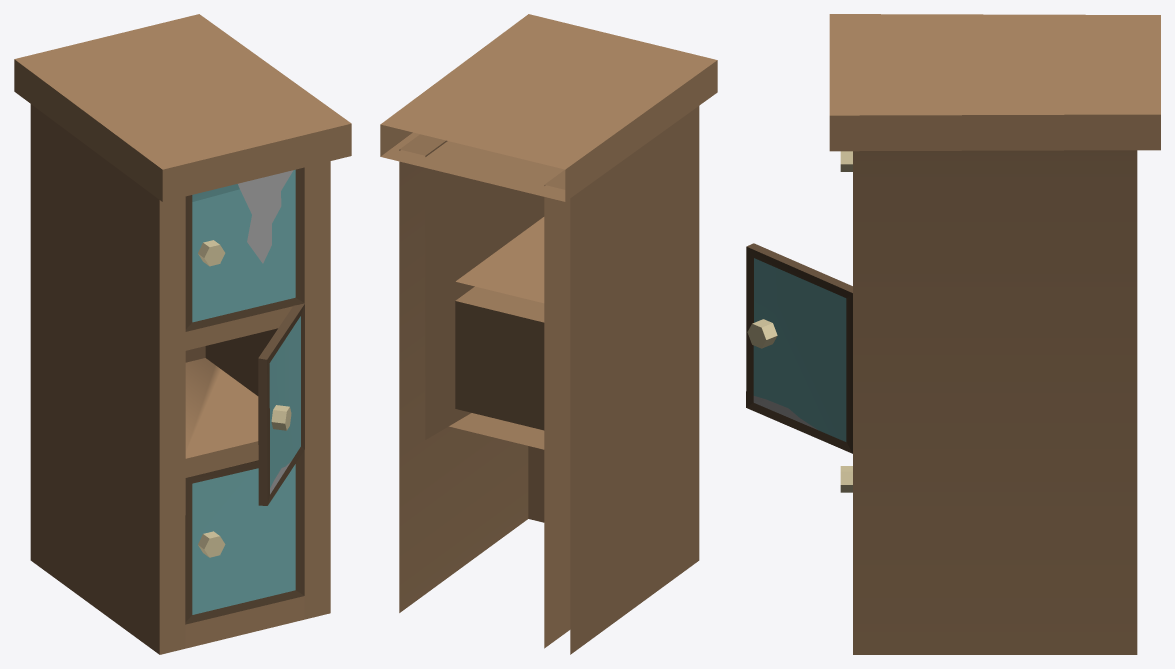
File: MSH_QuestObject_cabinet_10.fbx
3 renders of one model, left to right at view 1: azimuth 30°, elevation 25°; view 2: azimuth 150°, elevation 25°; view 3: azimuth 270°, elevation 25°, orthographic. The views are drawn at different scales.
Parts seen in each view (by area): view 1: MSH_QuestObject_cabinet_10; view 2: MSH_QuestObject_cabinet_10; view 3: MSH_QuestObject_cabinet_10.
Part boxes in pixels (x1,y1,x2,y2): MSH_QuestObject_cabinet_10: (14,14,351,654); MSH_QuestObject_cabinet_10: (380,14,717,654); MSH_QuestObject_cabinet_10: (746,14,1160,654).
Size of the model in its own units: 1.12 by 2.8 by 1.93.
